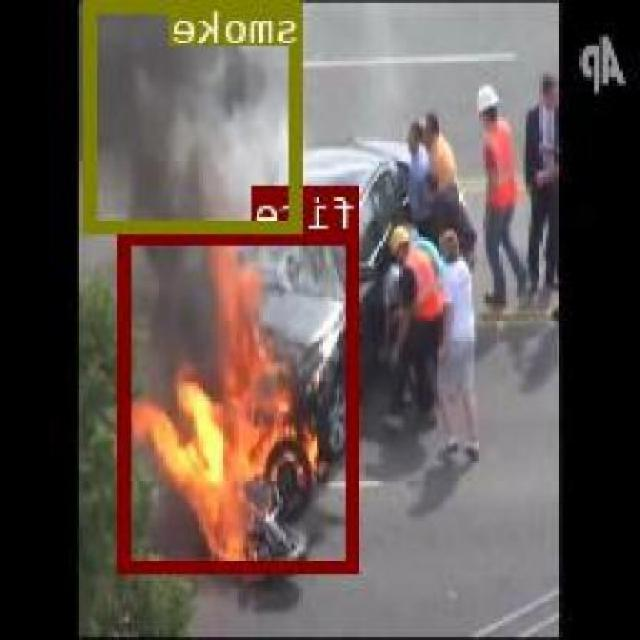Fire: (122, 230, 364, 570)
Smoke: (86, 0, 306, 231)
